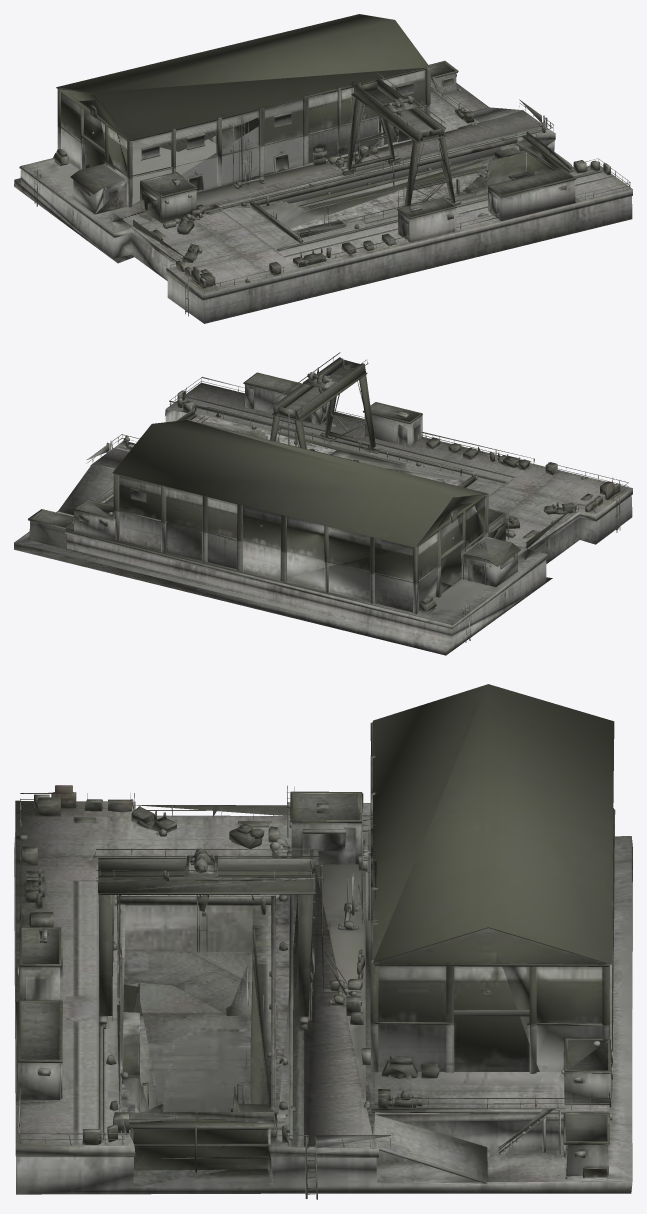
The model's file is naval_yard.glb.
The picture shows the model from 3 angles, top to bottom: view 1: azimuth 30°, elevation 25°; view 2: azimuth 150°, elevation 25°; view 3: azimuth 270°, elevation 25°; orthographic projection. The views are drawn at different scales.
Visible parts, largest first — view 1: hull; view 2: hull; view 3: hull.
Part boxes in pixels (x1,y1,x2,y2): hull: (14, 14, 632, 323); hull: (14, 352, 632, 655); hull: (14, 684, 632, 1199).
Bounding box in the file's own units: 23.04 × 6.3 × 17.22.
Materials: 3 (3 with a texture image).
